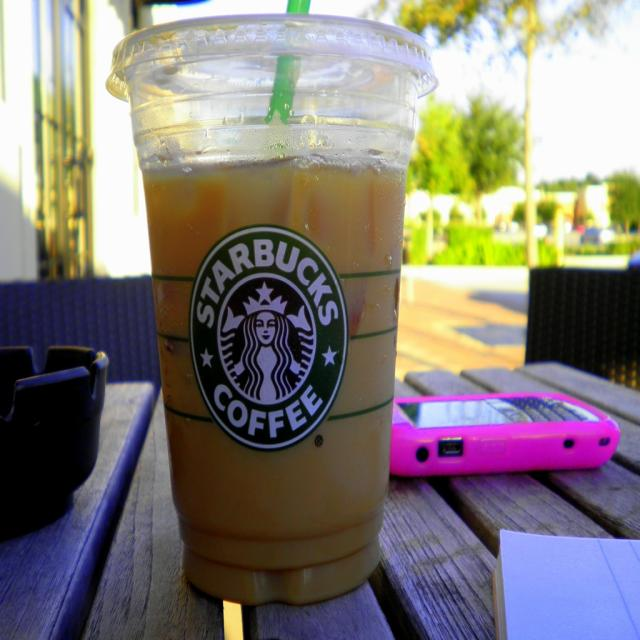starbucks: (189, 224, 349, 450)
